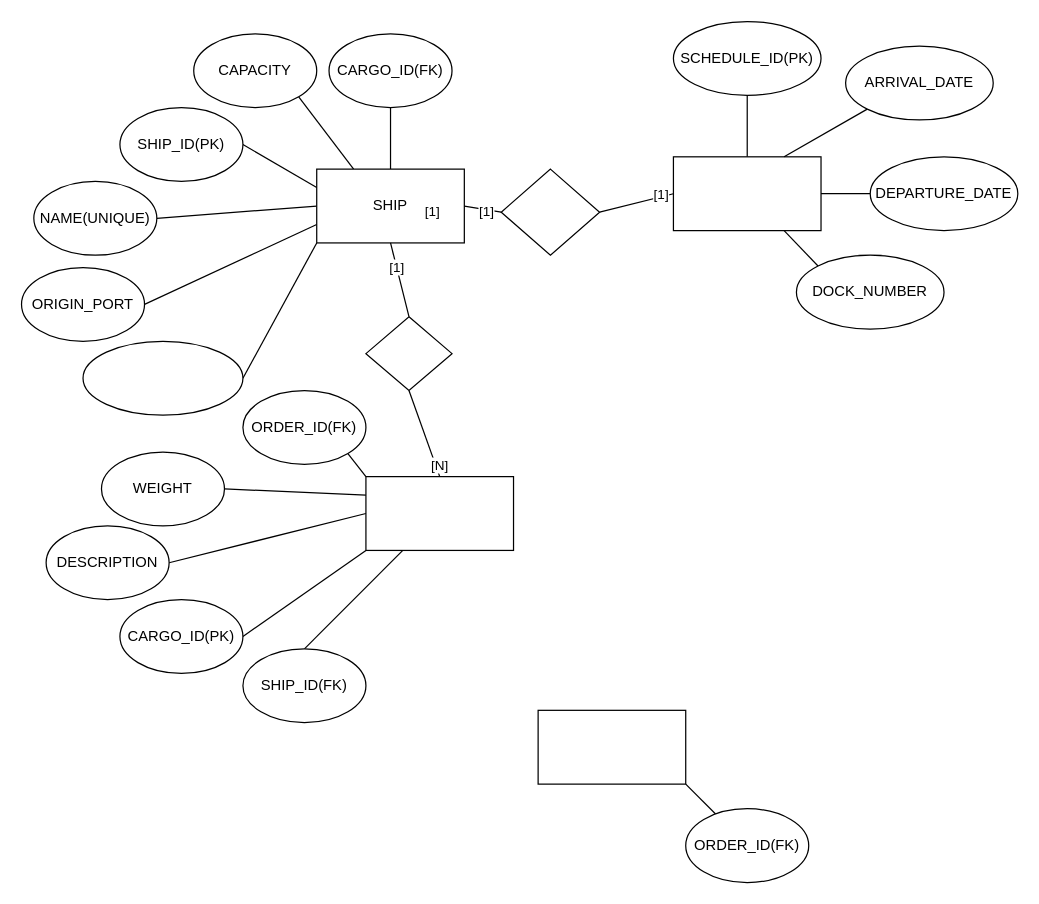
This 1039x904 diagram has some shape labels left out. Each missing label, with the box of its shape:
CARGO: (365, 475, 514, 550)
CONTAINS: (365, 315, 452, 391)
DESTINATION_PORT: (82, 340, 243, 415)
Has Schedule: (500, 168, 600, 255)
ORDER: (537, 709, 686, 784)
SCHEDULE: (672, 156, 821, 231)
